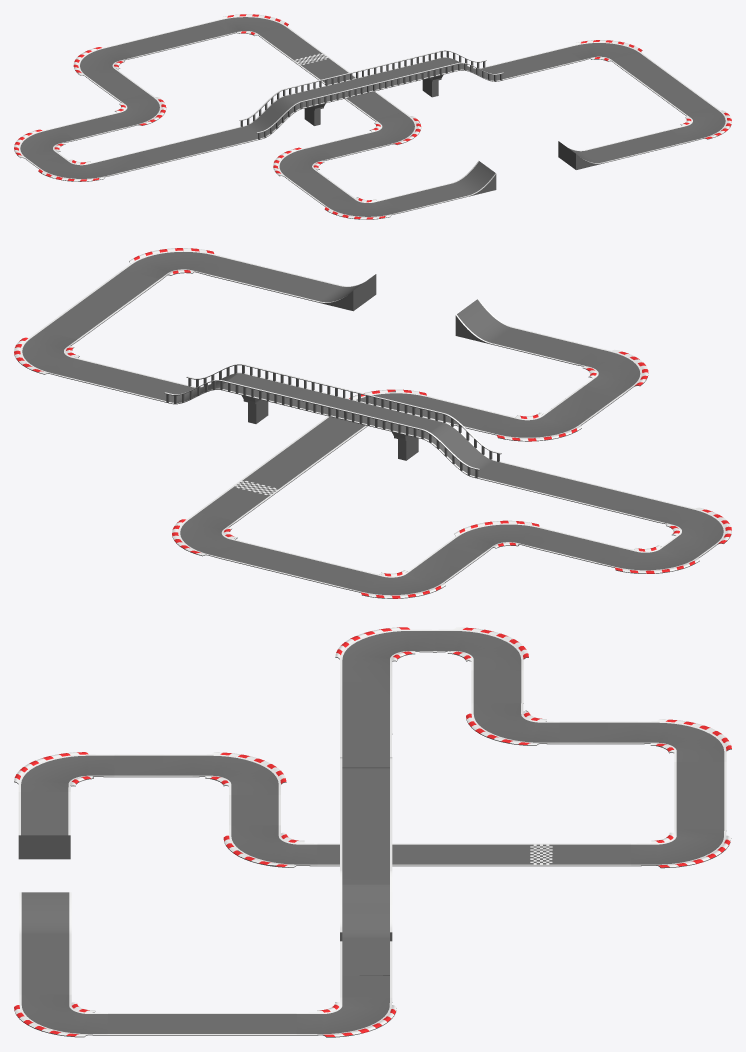
Rendered from lptrack.glb.
3 renders of one model, top to bottom at view 1: azimuth 30°, elevation 25°; view 2: azimuth 150°, elevation 25°; view 3: azimuth 270°, elevation 25°, orthographic. The views are drawn at different scales.
Parts seen in each view (by area): view 1: Cube_Material.001_0, Cube_Material_0, Cube.001_Material.002_0; view 2: Cube_Material.001_0, Cube_Material_0, Cube.001_Material.002_0; view 3: Cube_Material.001_0, Cube_Material_0, Cube.001_Material.002_0.
Boxes of the visible parts, x1=… form: Cube_Material.001_0: x1=14, y1=17, x2=731, y2=219; Cube_Material_0: x1=14, y1=14, x2=731, y2=219; Cube.001_Material.002_0: x1=14, y1=14, x2=731, y2=219; Cube_Material.001_0: x1=15, y1=251, x2=731, y2=598; Cube_Material_0: x1=14, y1=248, x2=731, y2=598; Cube.001_Material.002_0: x1=14, y1=248, x2=731, y2=598; Cube_Material.001_0: x1=14, y1=630, x2=731, y2=1037; Cube_Material_0: x1=14, y1=627, x2=730, y2=1036; Cube.001_Material.002_0: x1=14, y1=627, x2=731, y2=1036.
Size of the model in its own units: 534 by 27.74 by 395.
